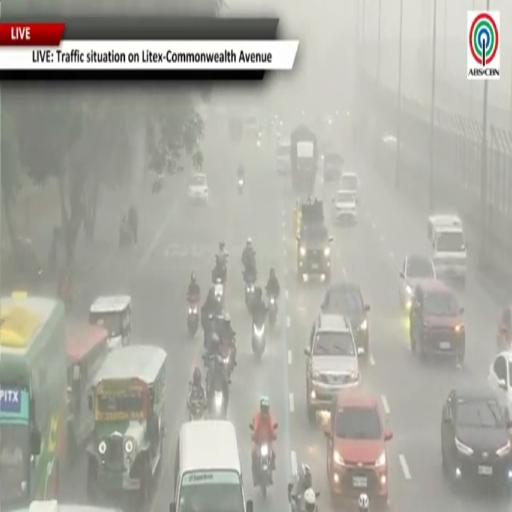bus: (0, 293, 66, 510)
car: (325, 389, 392, 506), (441, 384, 511, 490), (305, 314, 360, 422), (410, 279, 465, 364), (321, 281, 369, 357), (428, 215, 467, 285), (399, 254, 436, 311), (488, 350, 511, 418), (12, 501, 122, 511), (427, 214, 462, 241), (333, 189, 357, 223), (323, 150, 343, 182), (339, 171, 359, 202), (189, 173, 209, 203), (277, 140, 290, 175)
jeepney: (87, 345, 166, 504), (66, 323, 109, 462), (89, 295, 131, 348), (15, 501, 122, 511)
motorcycle: (206, 355, 230, 419), (255, 443, 272, 499), (243, 272, 256, 312), (252, 320, 266, 357), (220, 343, 235, 377), (212, 253, 228, 283), (288, 484, 304, 511), (188, 298, 199, 337), (188, 399, 206, 421), (119, 223, 133, 248), (497, 327, 511, 351), (214, 278, 224, 311), (189, 402, 205, 421), (268, 295, 277, 326), (238, 178, 244, 194)
truck: (297, 199, 333, 282), (290, 125, 318, 195)
